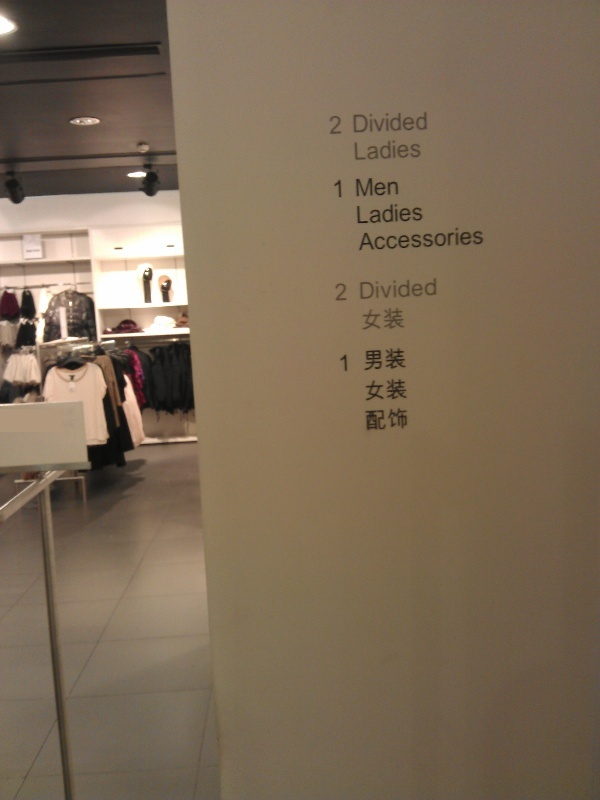text: (369, 225, 384, 251), (385, 225, 400, 251), (401, 225, 416, 251), (417, 225, 432, 251), (433, 225, 448, 251), (449, 225, 464, 251), (465, 225, 480, 251), (369, 307, 384, 333), (385, 307, 400, 333), (369, 407, 384, 433), (385, 407, 400, 433), (353, 138, 368, 163), (369, 138, 384, 163), (385, 138, 400, 163), (401, 138, 416, 163), (369, 175, 384, 200), (385, 175, 400, 200), (369, 347, 384, 372), (385, 347, 400, 372), (369, 378, 384, 403), (385, 378, 400, 403), (353, 201, 368, 225), (369, 201, 384, 225), (385, 201, 400, 225), (401, 201, 416, 225), (369, 277, 384, 300), (385, 277, 400, 300), (401, 277, 416, 300), (417, 277, 432, 300), (353, 112, 368, 134), (369, 112, 384, 134), (385, 112, 400, 134), (401, 112, 416, 134), (355, 175, 368, 200), (417, 112, 430, 134), (357, 225, 368, 251), (401, 407, 410, 433), (340, 354, 352, 372), (359, 277, 368, 300), (337, 284, 348, 302), (417, 201, 425, 225), (433, 277, 441, 300), (361, 307, 368, 333), (401, 378, 408, 403), (481, 225, 487, 251), (401, 307, 407, 333), (417, 138, 423, 163), (362, 378, 368, 403), (329, 115, 336, 135), (337, 180, 344, 199), (363, 347, 368, 372), (401, 347, 406, 372), (364, 407, 368, 433), (337, 115, 342, 135), (333, 180, 336, 199), (401, 175, 402, 200), (335, 284, 336, 302)
